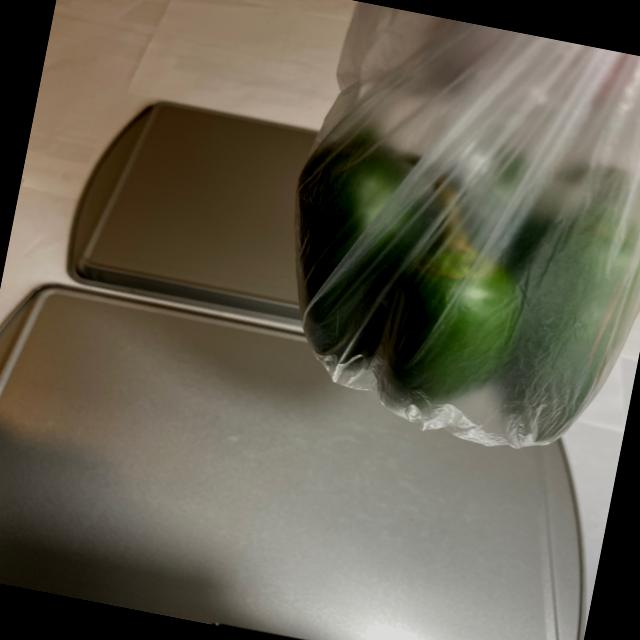chilli: (245, 70, 640, 464)
